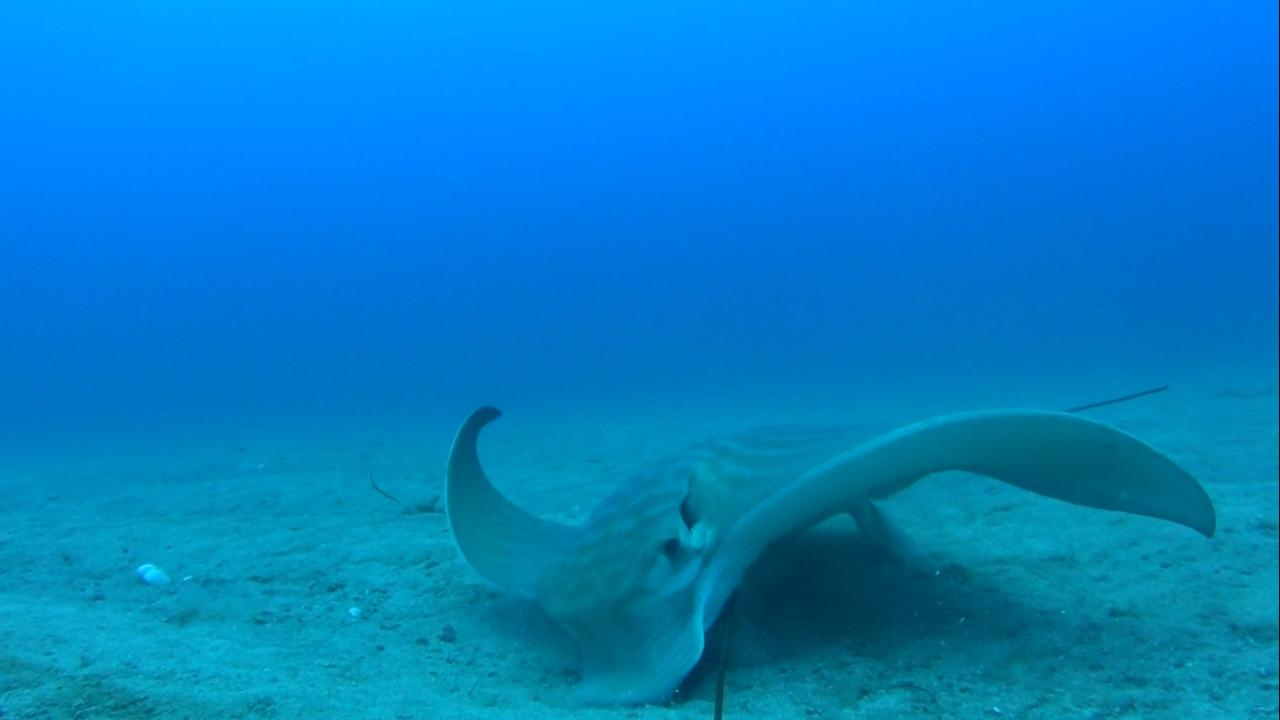myliobatis: (433, 378, 1228, 709)
